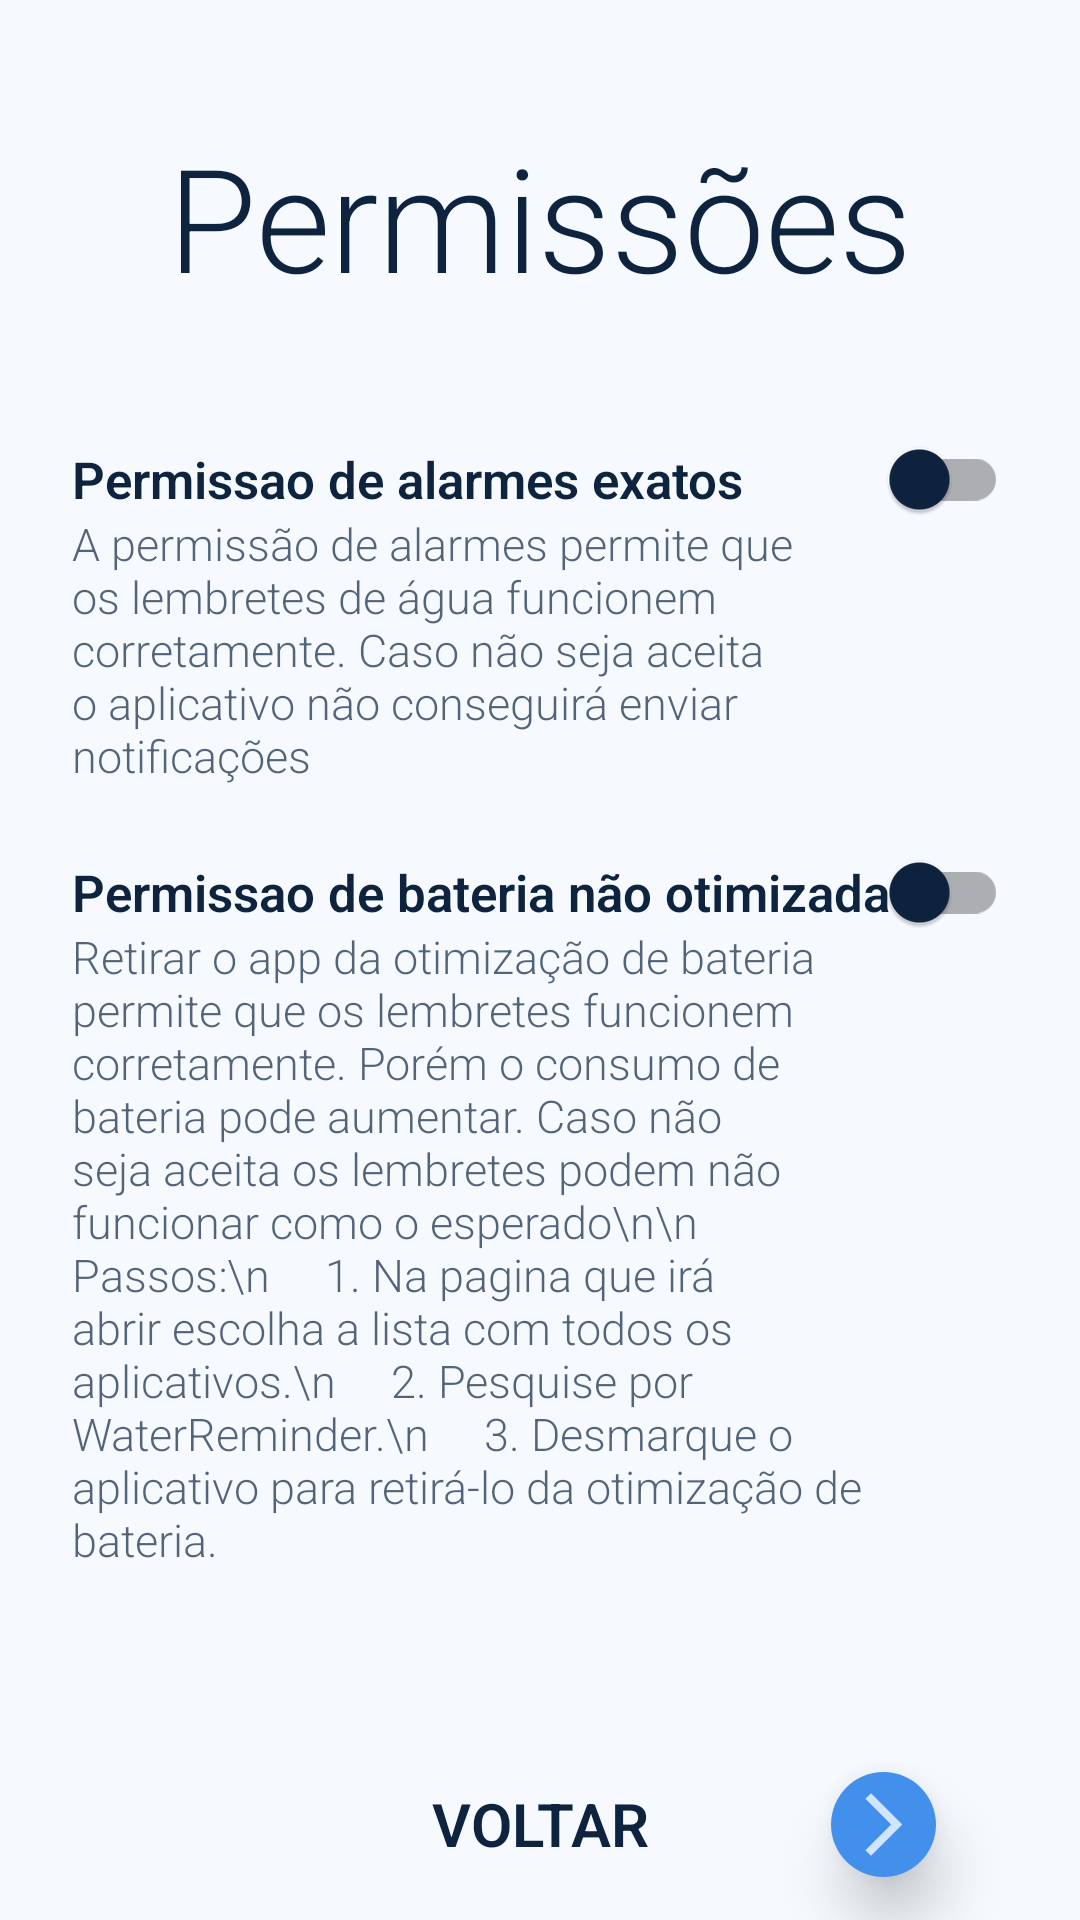

Where to tap for icons on this 1080px x 1920px app screen, as [x,y]:
arrow next: [883,1824]
